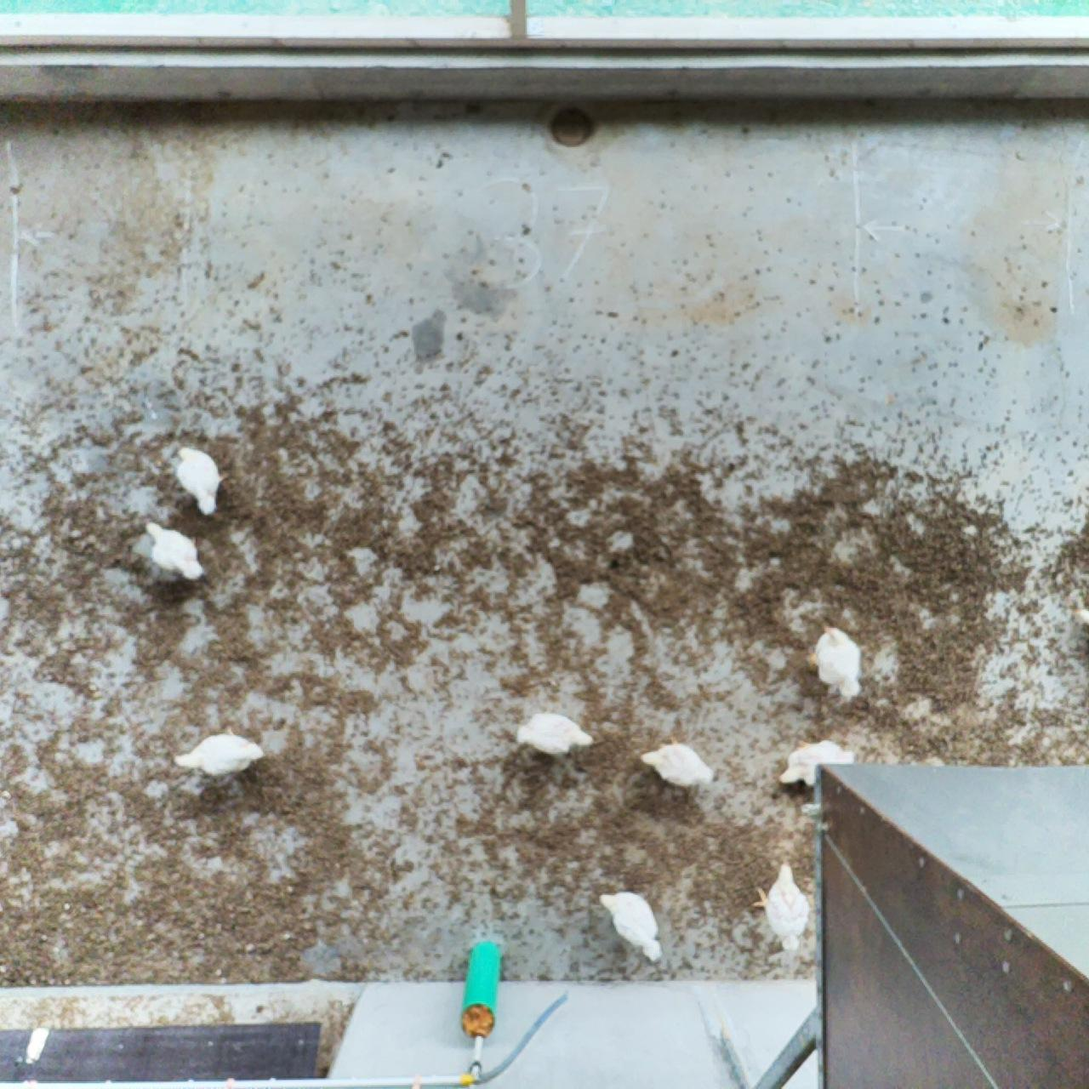chicken: (751, 857, 812, 953), (172, 724, 267, 778), (597, 889, 664, 965), (640, 734, 716, 791), (173, 444, 230, 518), (515, 707, 596, 757), (778, 738, 857, 788), (814, 623, 865, 700), (143, 521, 206, 583)
